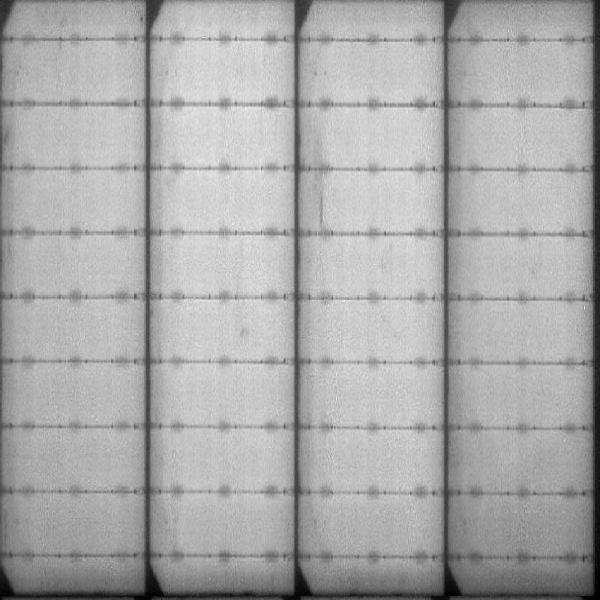scratch: (317, 195, 327, 229)
